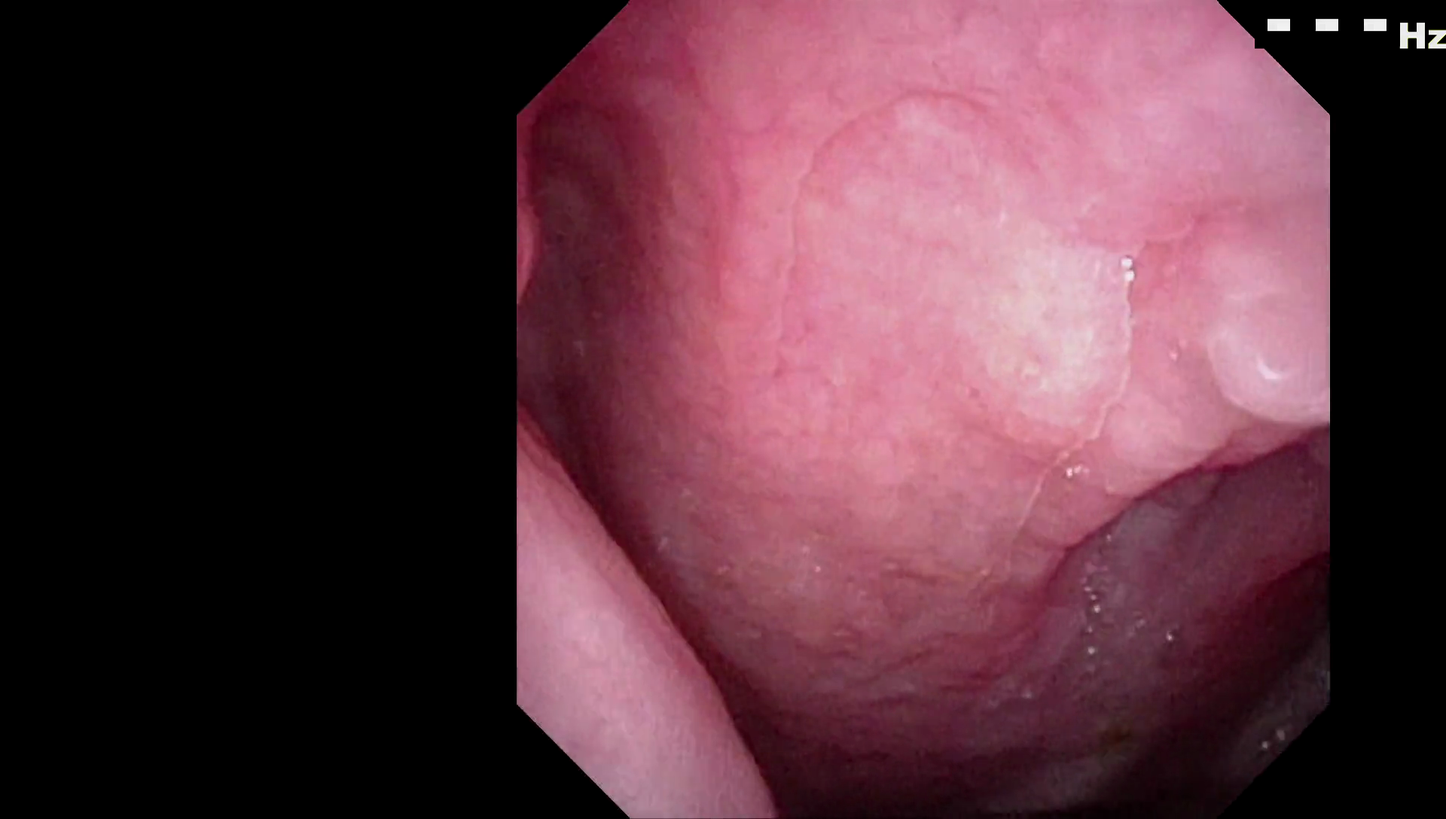close_wall: (742, 84, 1296, 446), (529, 465, 758, 819)
next: (1055, 598, 1312, 819), (709, 653, 943, 819)
